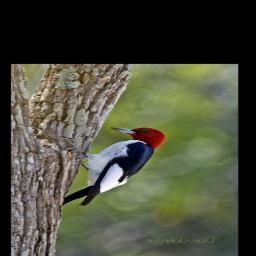Woodpecker: (56, 124, 169, 208)
